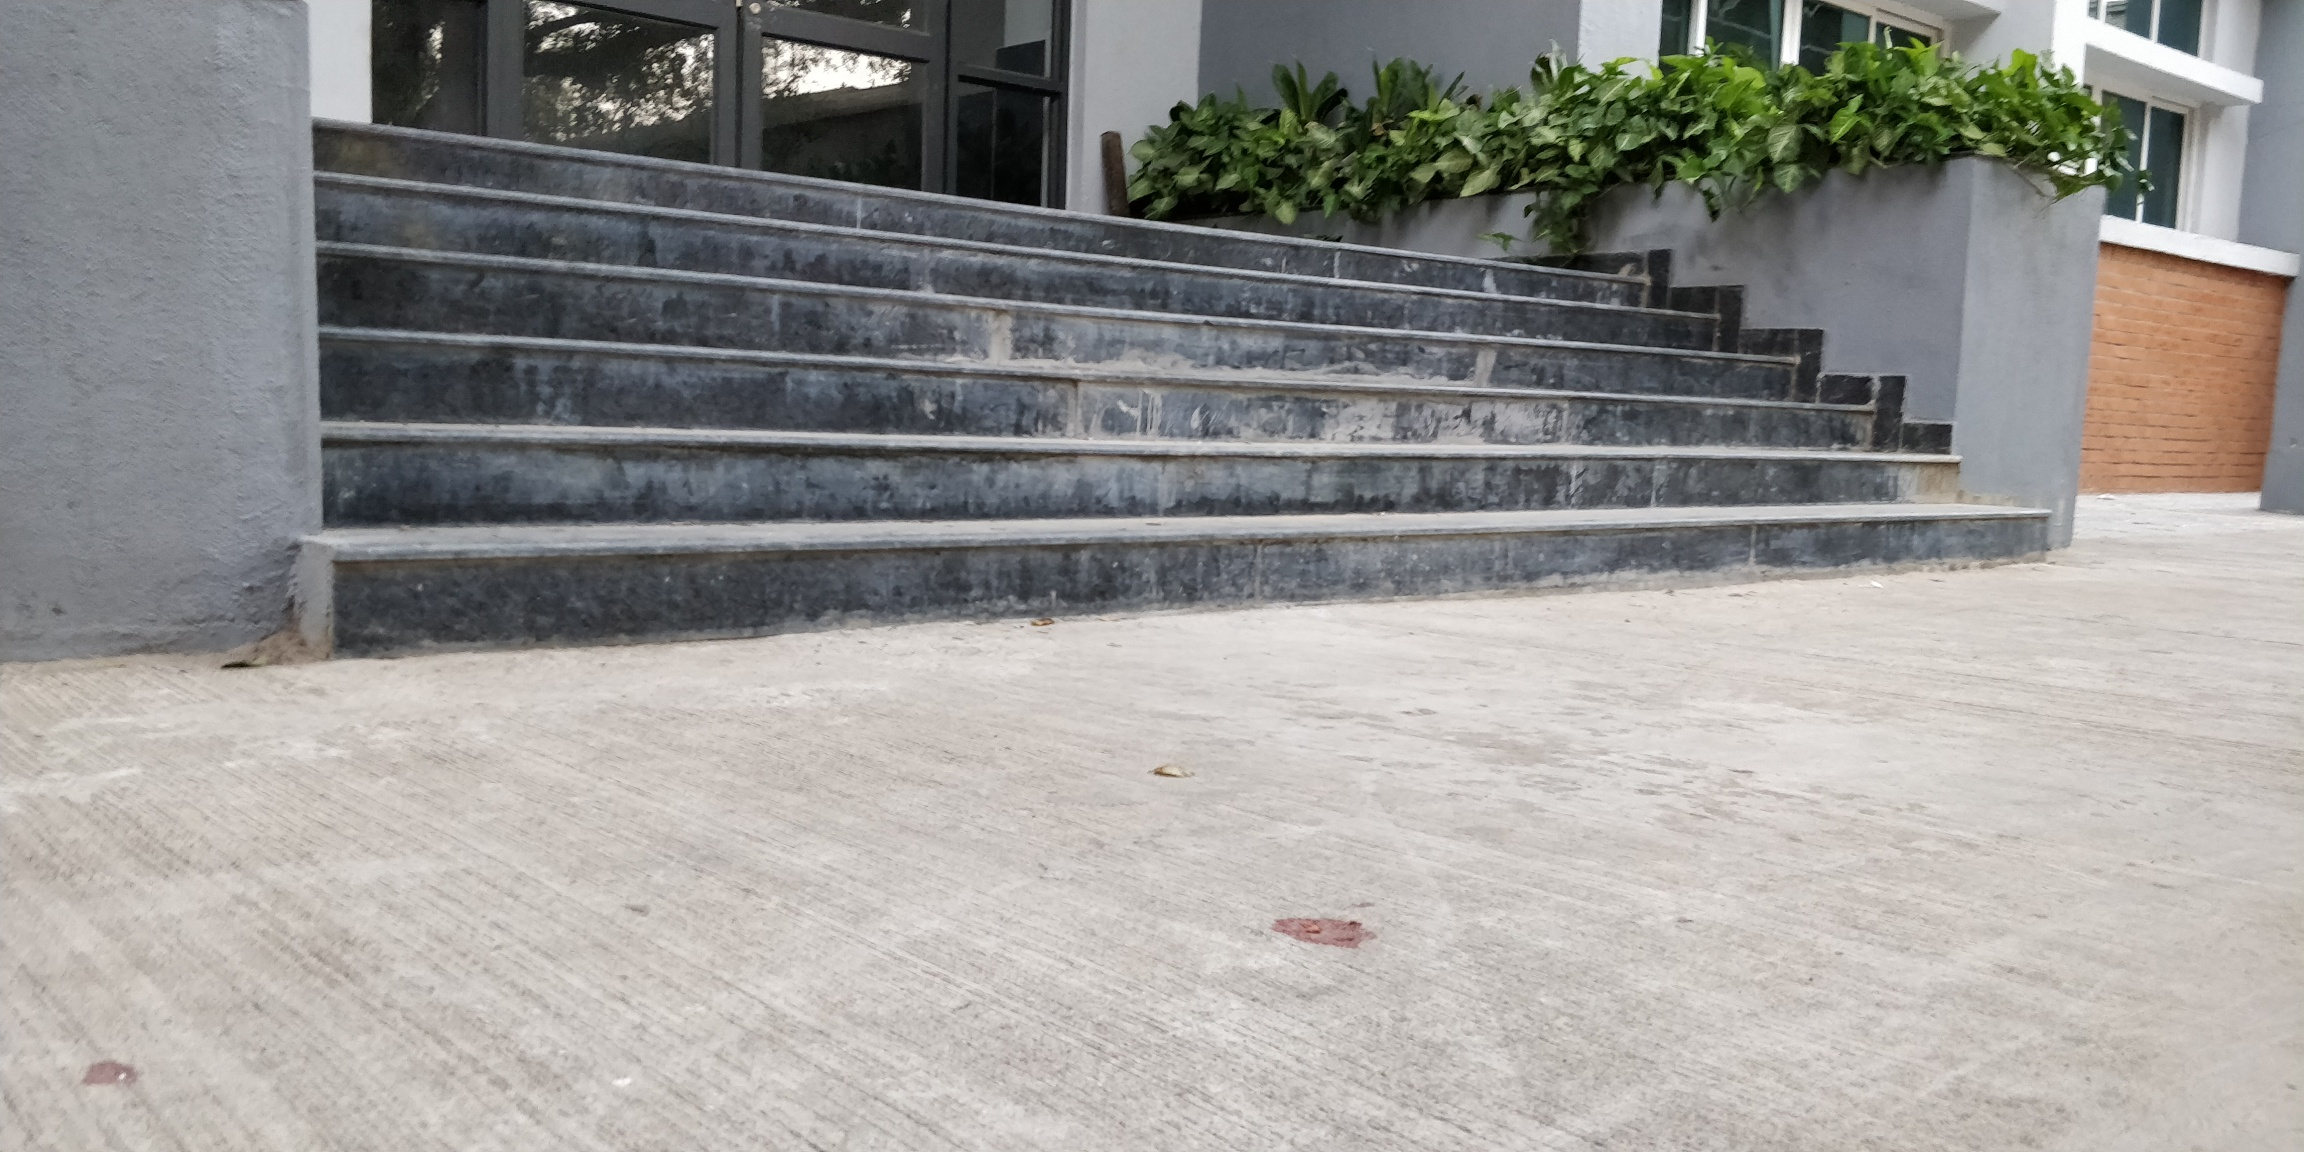stairs_up: (317, 103, 1963, 585)
